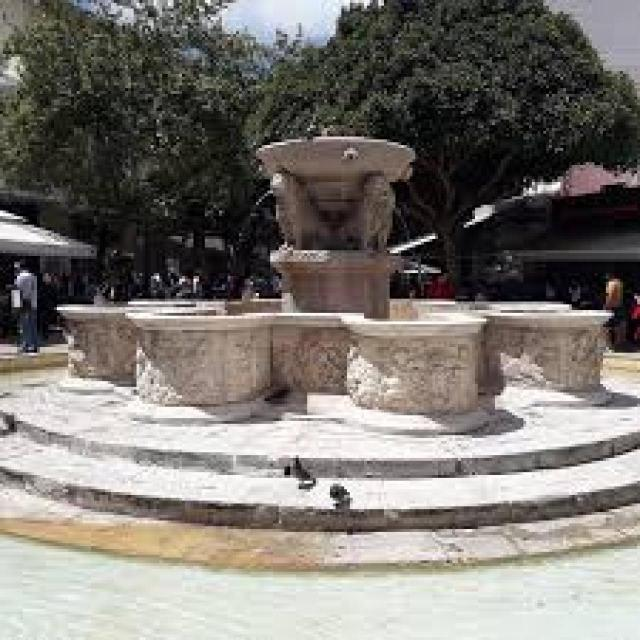Liontaria: (57, 130, 611, 431)
